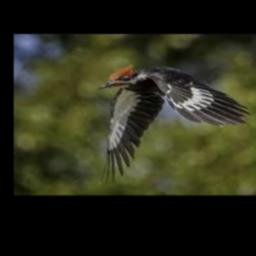Woodpecker: (99, 64, 252, 185)
